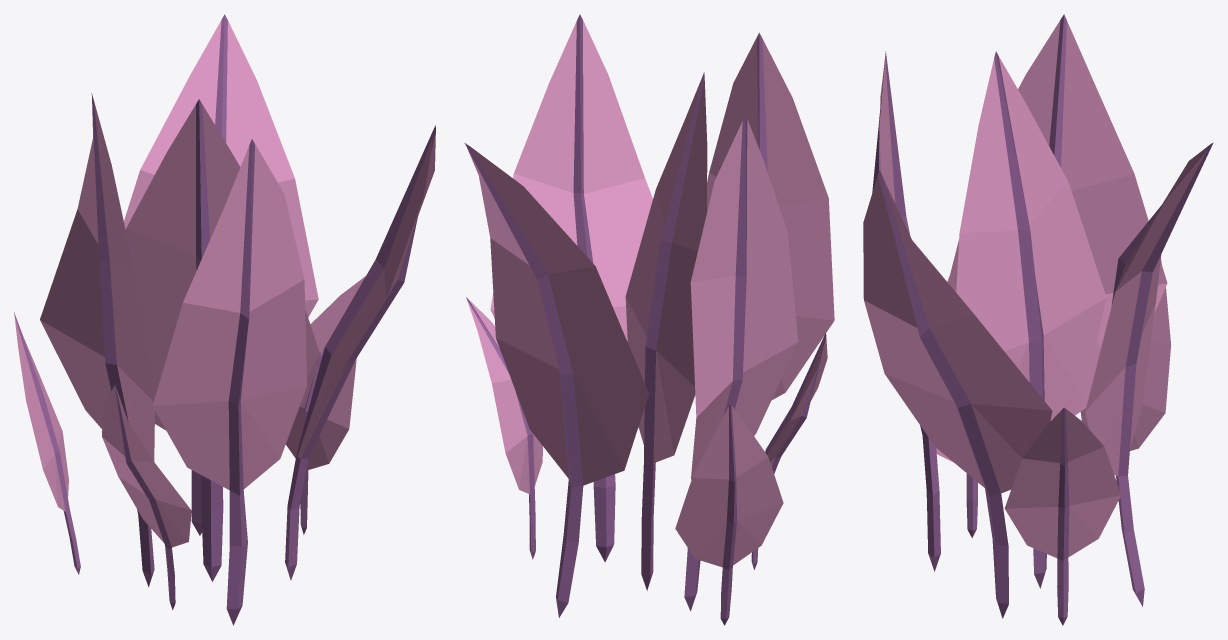
Rendered from Gras_03_Var_06.fbx.
3 views of the same model, side by side, from view 1: azimuth 30°, elevation 25°; view 2: azimuth 150°, elevation 25°; view 3: azimuth 270°, elevation 25° (orthographic). The views are drawn at different scales.
Parts seen in each view (by area): view 1: Gras_03_Var_06; view 2: Gras_03_Var_06; view 3: Gras_03_Var_06.
Part boxes in pixels (x1=…): Gras_03_Var_06: x1=14, y1=14, x2=435, y2=625; Gras_03_Var_06: x1=464, y1=14, x2=834, y2=625; Gras_03_Var_06: x1=863, y1=14, x2=1213, y2=625.
Size of the model in its own units: 0.1345 by 0.2205 by 0.1461.
